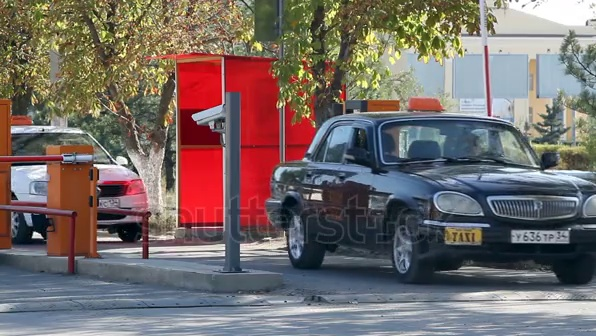licenseplate: (474, 297, 539, 324)
